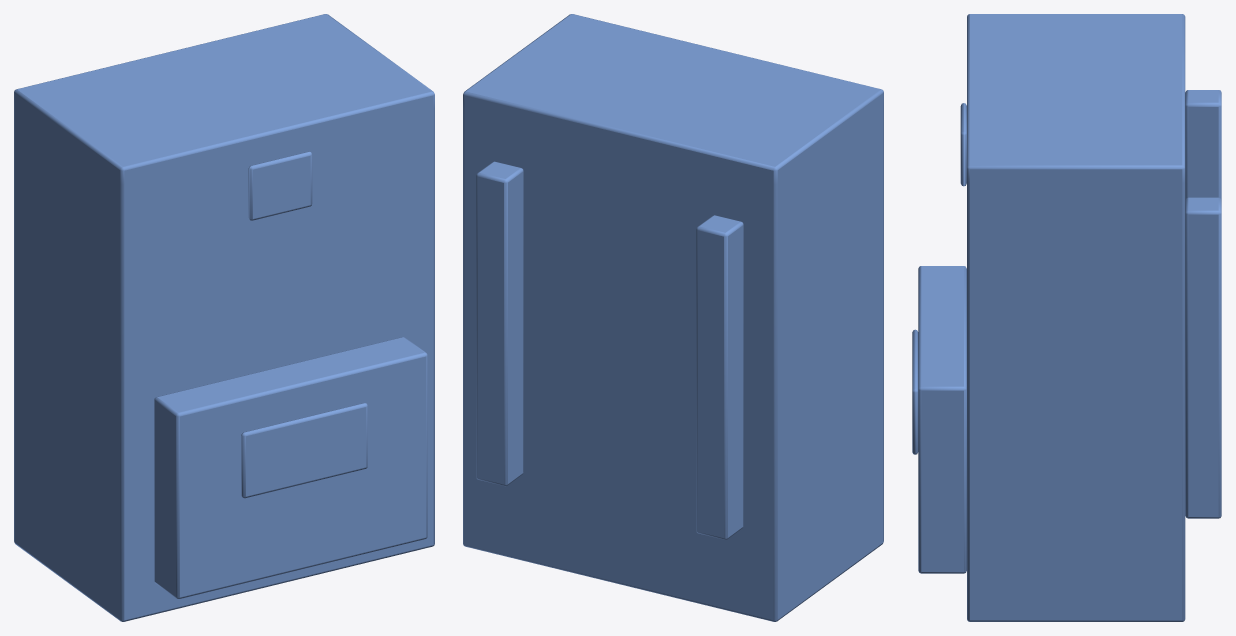
File: CapSach_TieuHoc.glb
The picture shows the model from 3 angles, left to right: view 1: azimuth 30°, elevation 25°; view 2: azimuth 150°, elevation 25°; view 3: azimuth 270°, elevation 25°; orthographic projection.
Visible parts, largest first — view 1: CapSach_TieuHoc; view 2: CapSach_TieuHoc; view 3: CapSach_TieuHoc.
Part boxes in pixels (left/top/right/bottom): CapSach_TieuHoc: left=14, top=14, right=434, bottom=621; CapSach_TieuHoc: left=463, top=14, right=883, bottom=621; CapSach_TieuHoc: left=912, top=14, right=1221, bottom=621.
Size of the model in its own units: 0.3 by 0.415 by 0.255.
